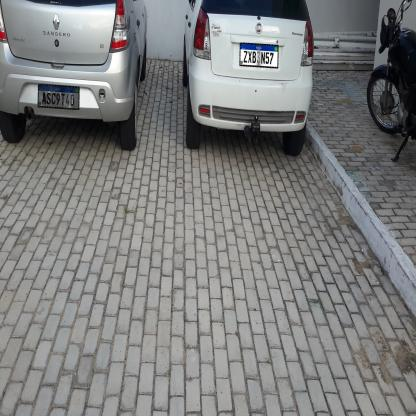PlacaM: (38, 84, 80, 110), (240, 42, 278, 68)
